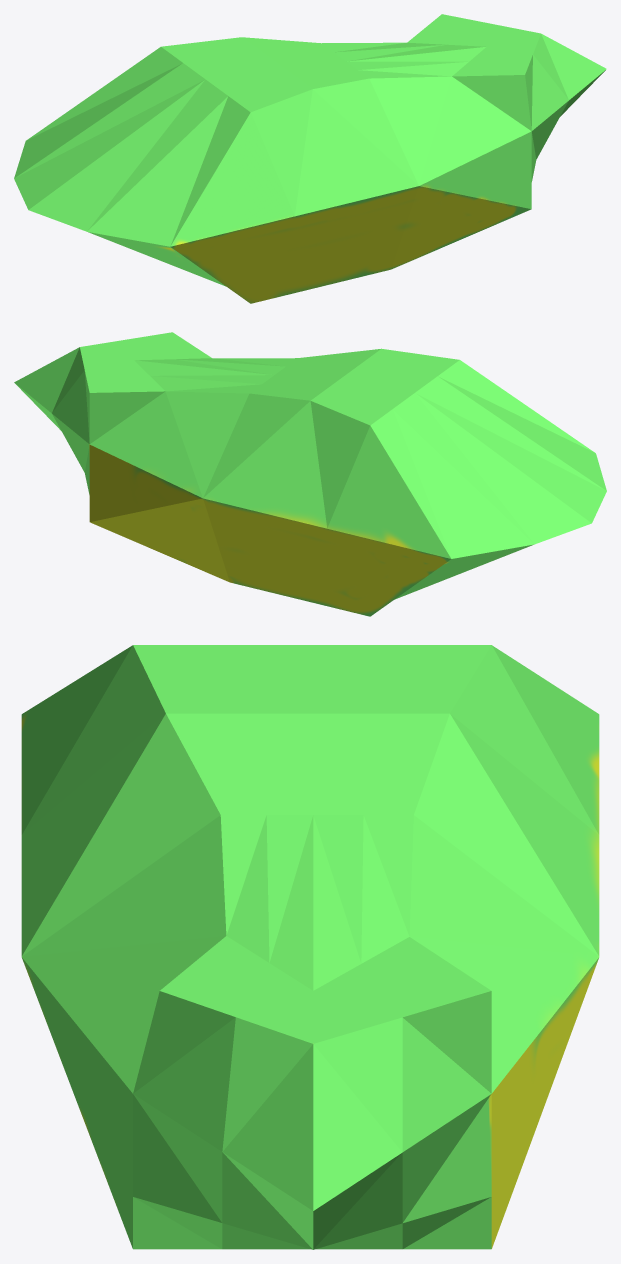
The model's file is smallenemy_kari.obj.
The picture shows the model from 3 angles, top to bottom: view 1: azimuth 30°, elevation 25°; view 2: azimuth 150°, elevation 25°; view 3: azimuth 270°, elevation 25°; orthographic projection. The views are drawn at different scales.
Parts seen in each view (by area): view 1: Cube; view 2: Cube; view 3: Cube.
Boxes of the visible parts, x1,y1,x2,y2 form: Cube: [14, 14, 606, 303]; Cube: [14, 332, 606, 616]; Cube: [21, 645, 599, 1249].
Size of the model in its own units: 11.75 by 3.71 by 5.09.
1 material, 1 textured.
